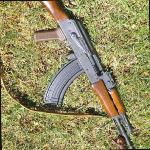Senapan: (25, 0, 143, 150)
